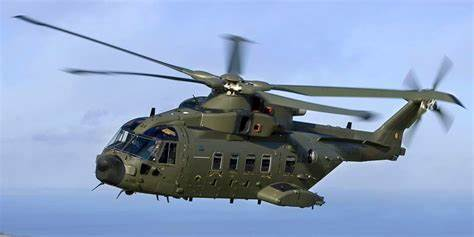Aeronef_militaire: (6, 7, 469, 216)
